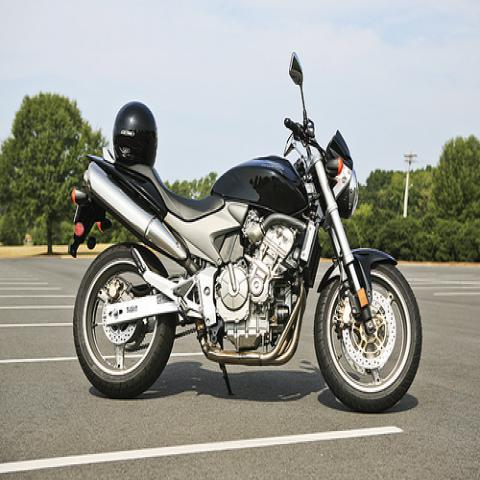motorcycle: (67, 54, 421, 413)
